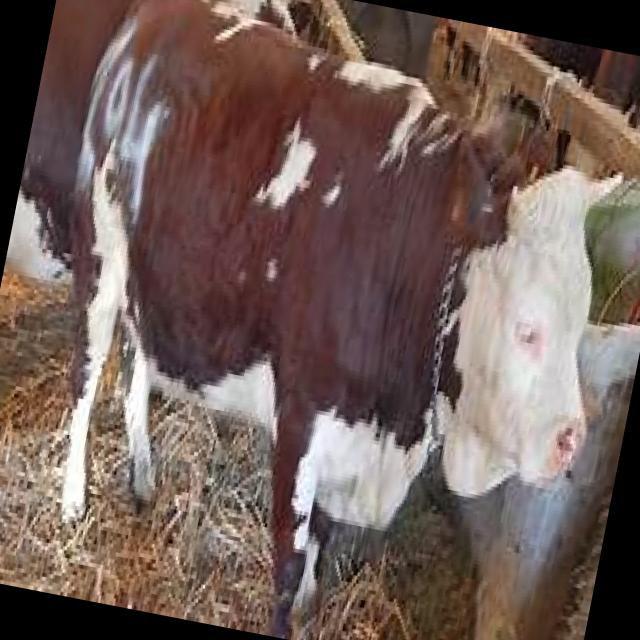cow: (23, 0, 640, 584)
